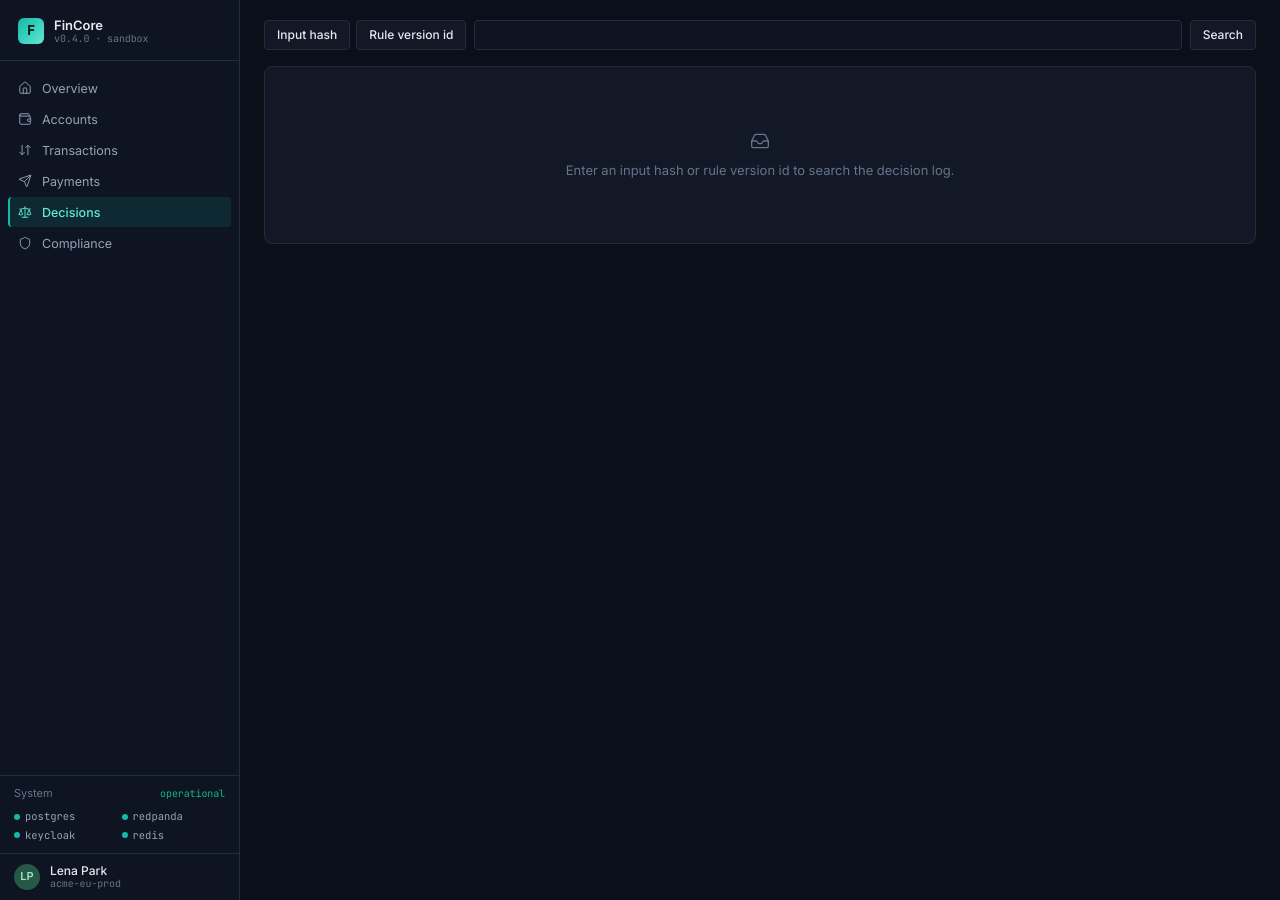
Decisions › queries by input hash and renders a row per log
The width and height of the screenshot is (1280, 900).
Type "hash-abc" into the field named "Query value" at [828, 35], box [474,20,1182,50]
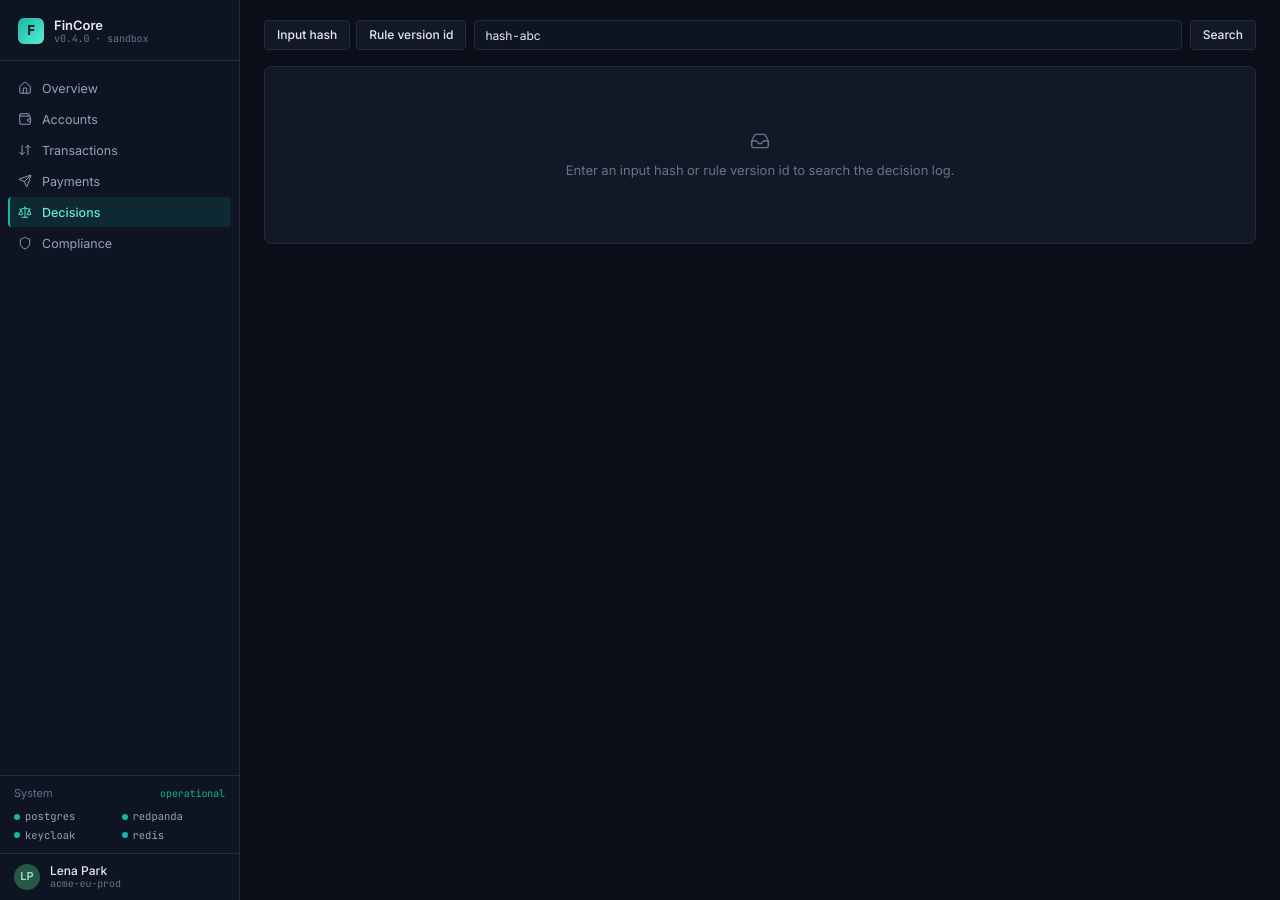
Click the button "Search" at [1223, 35], box [1190,20,1256,50]
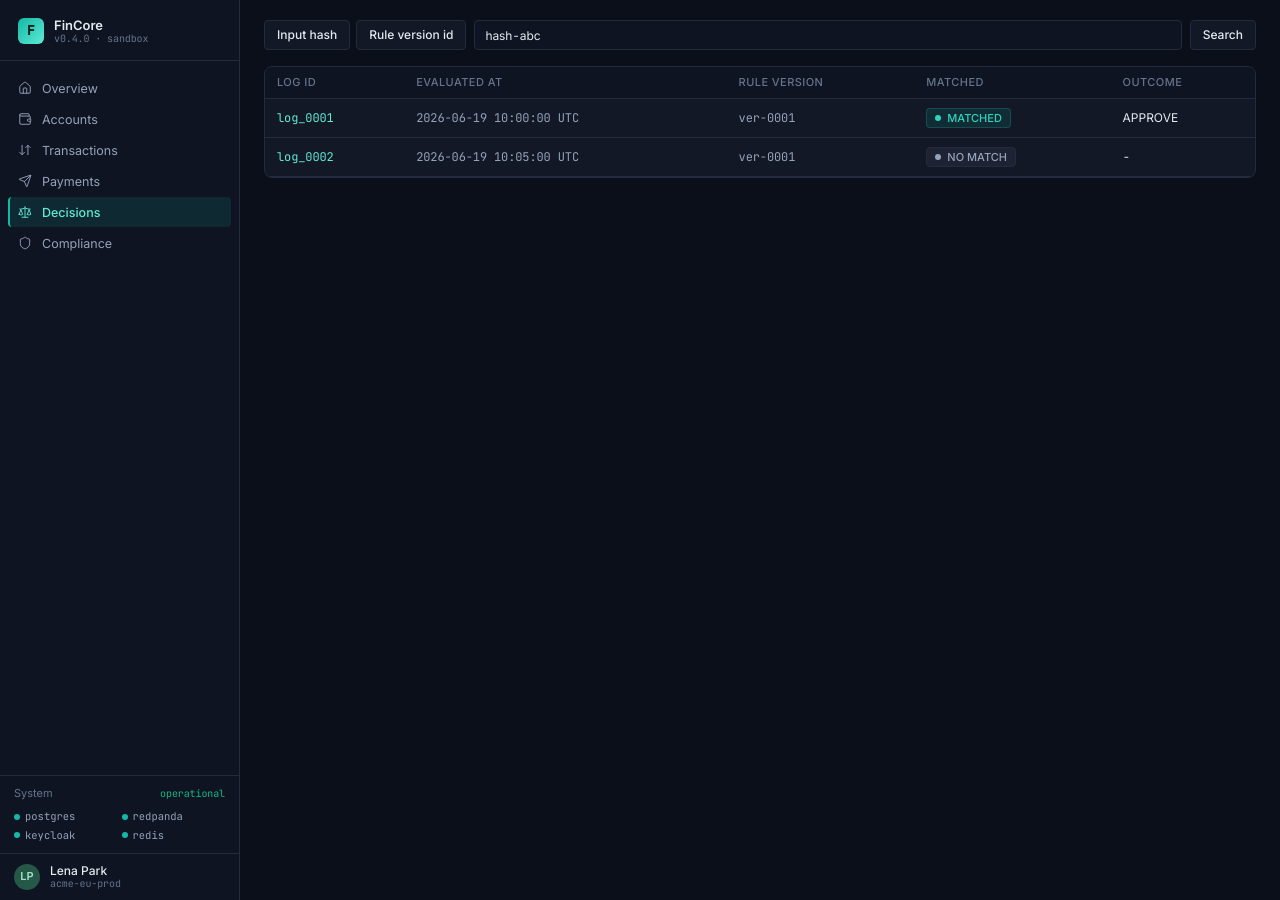
Now the text "log_0001" is shown, box [265,99,404,138]
Now the number of rows is 3, box [265,67,1255,99]; [265,99,1255,138]; [265,138,1255,177]
